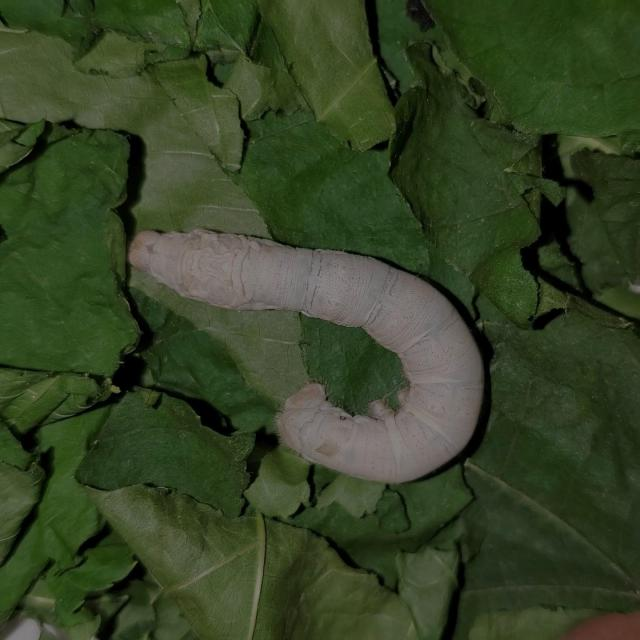Healthy: (119, 214, 509, 490)
